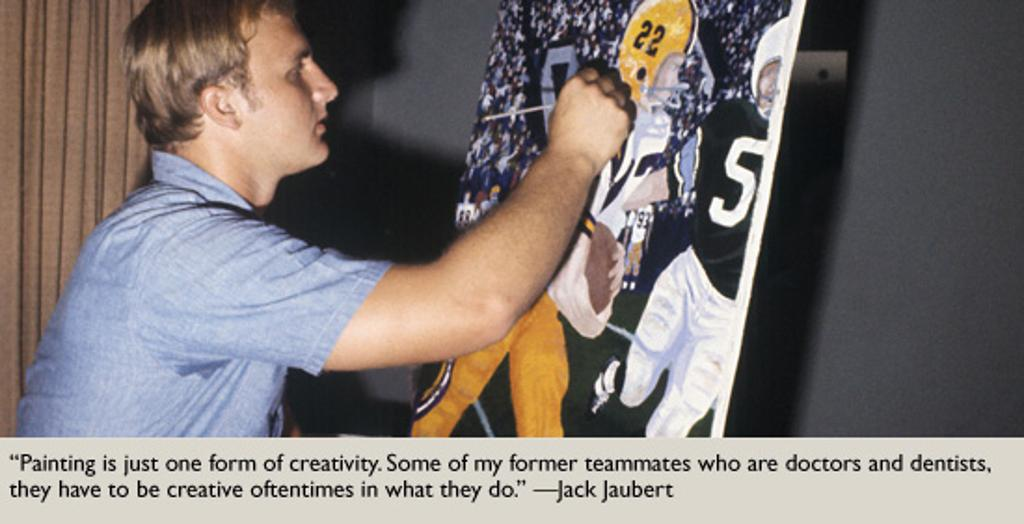face: (225, 1, 341, 179)
